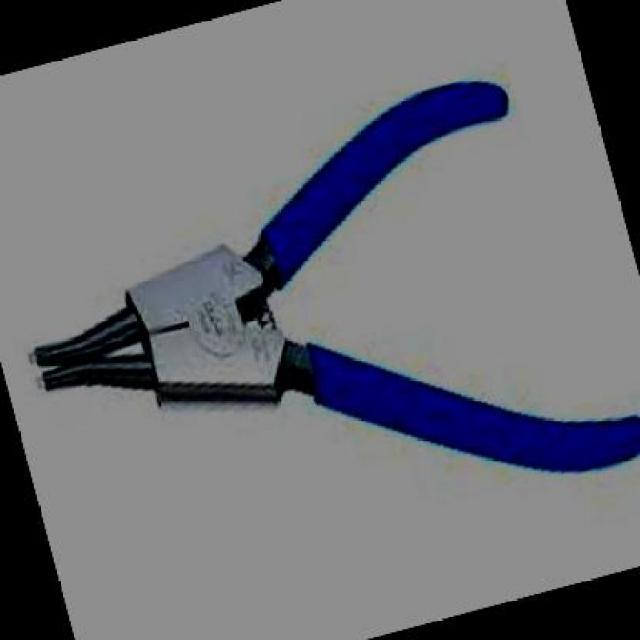pliers: (0, 44, 638, 621)
